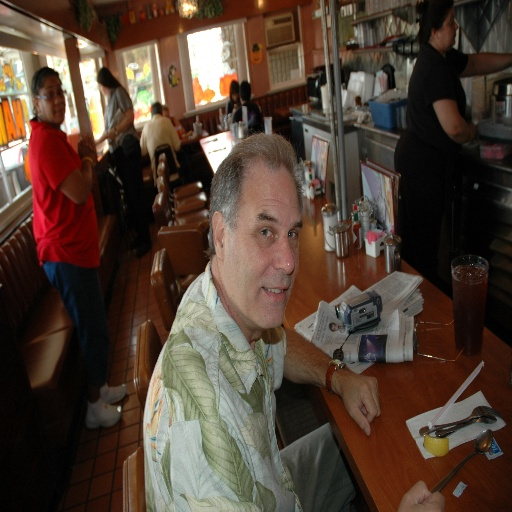hand: (343, 372, 392, 439), (396, 475, 448, 511), (75, 139, 94, 164), (82, 135, 96, 154), (468, 119, 478, 139), (105, 129, 116, 140)
